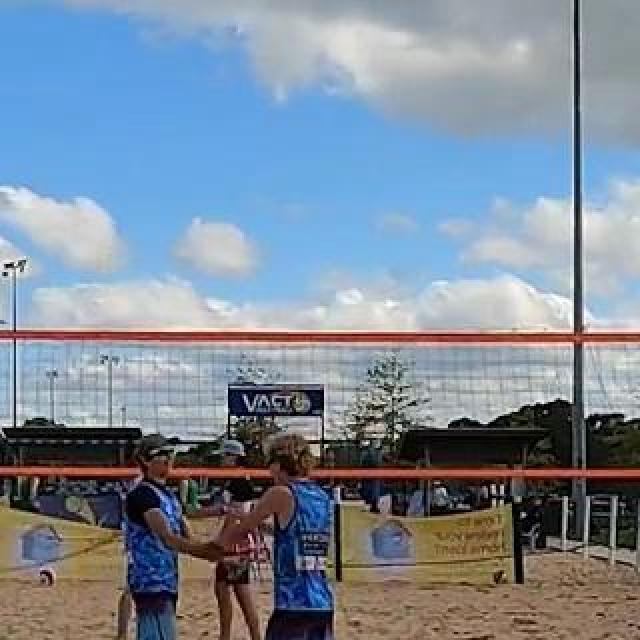volleyball: (39, 568, 57, 588), (491, 568, 509, 586)
